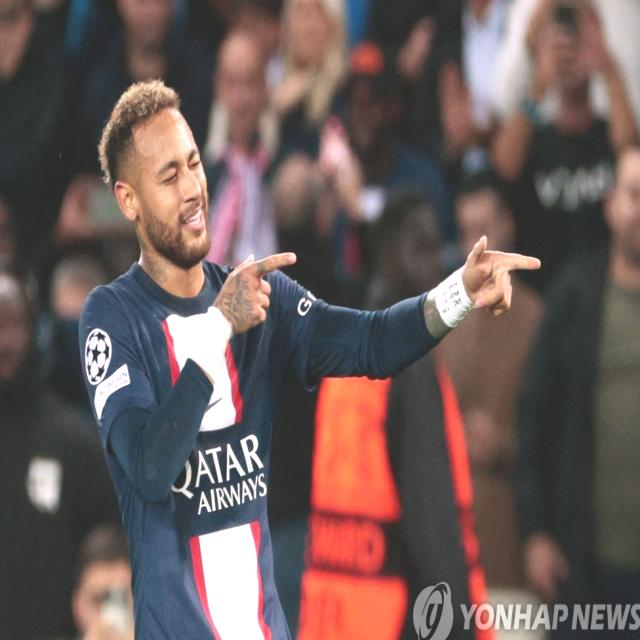neymar: (96, 87, 213, 261)
